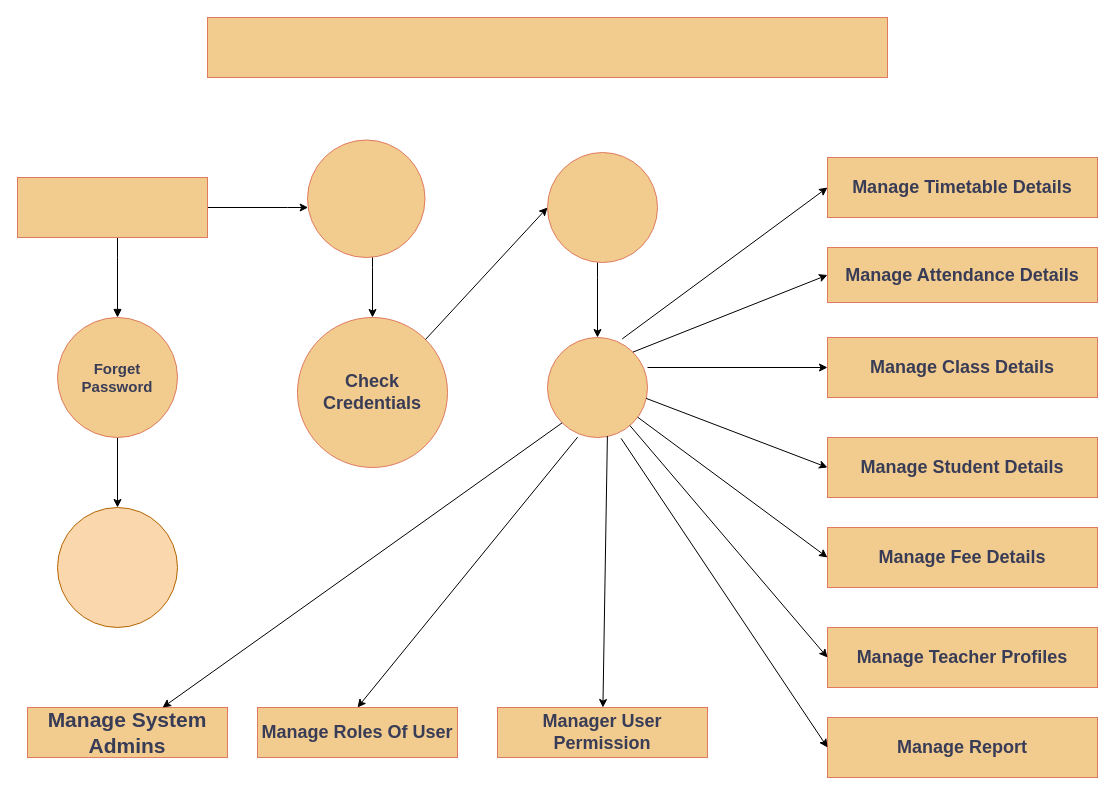
Some shapes in this 1115 by 795 pixel diagram are drawn without their labels. The centre of each missing label's shape, as x and y in pixels:
Admin: pixel 112 207
Check Roles Of Access: pixel 602 207
Login to System: pixel 365 198
Manage Modules: pixel 597 387
Send E-mail to user: pixel 117 567
Student Information System: pixel 547 47
